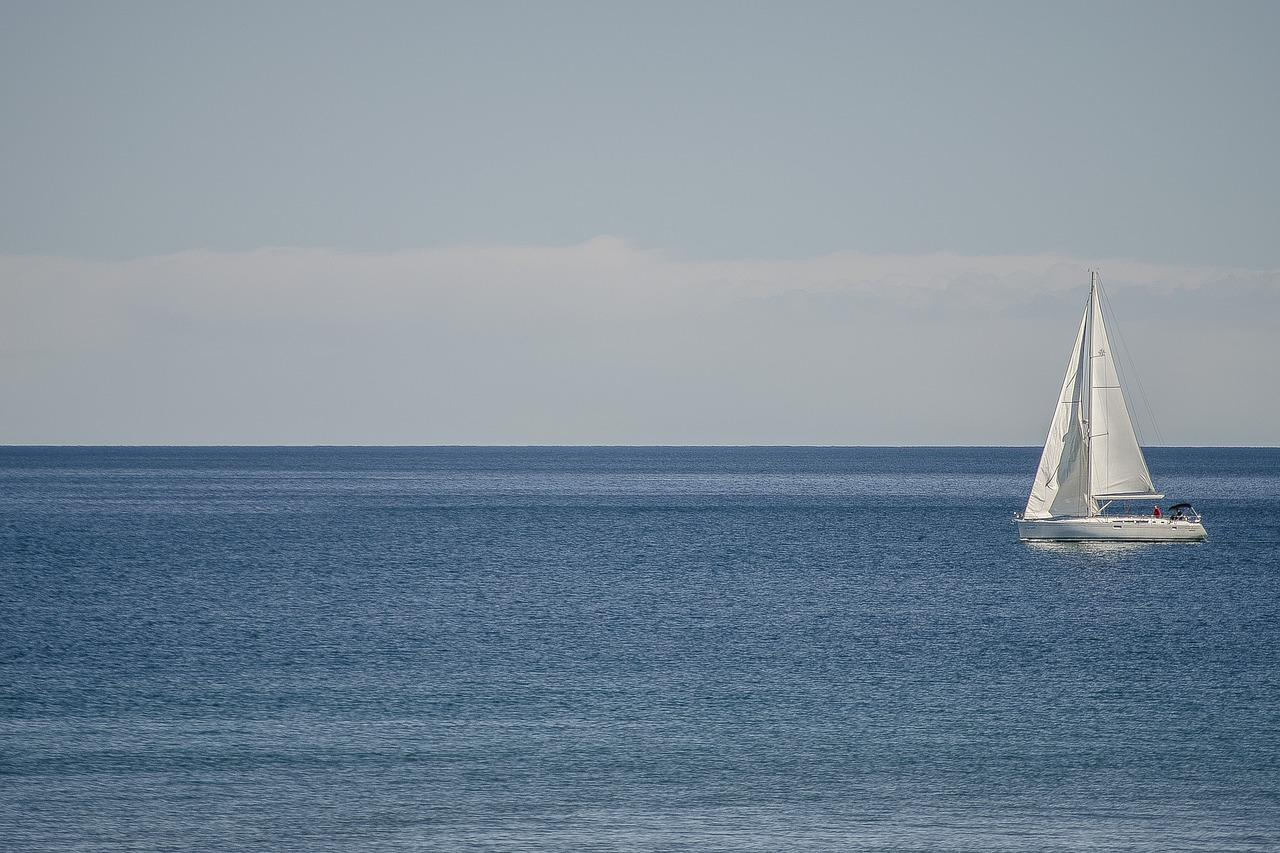Ship: (1011, 270, 1212, 545)
